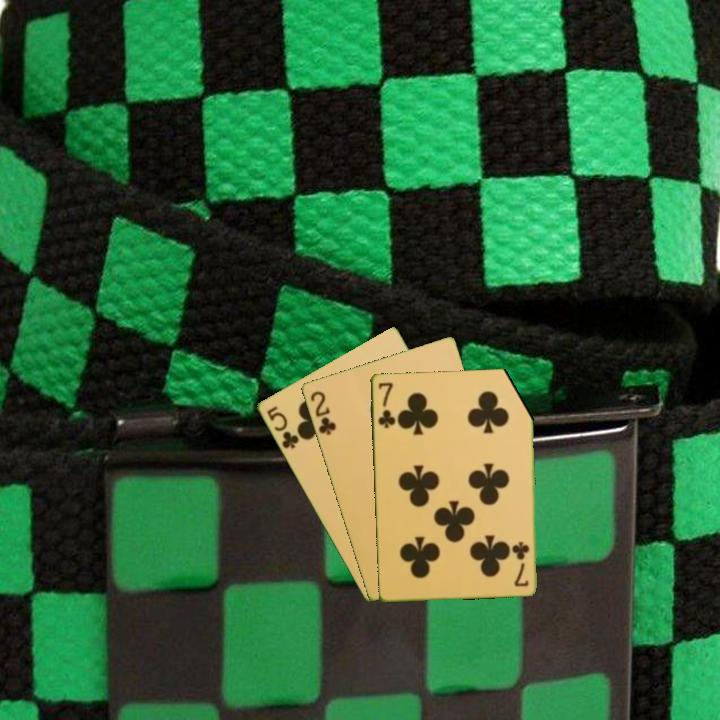2c: (306, 387, 339, 438)
5c: (263, 402, 301, 452)
7c: (375, 378, 397, 431), (511, 538, 532, 589)
